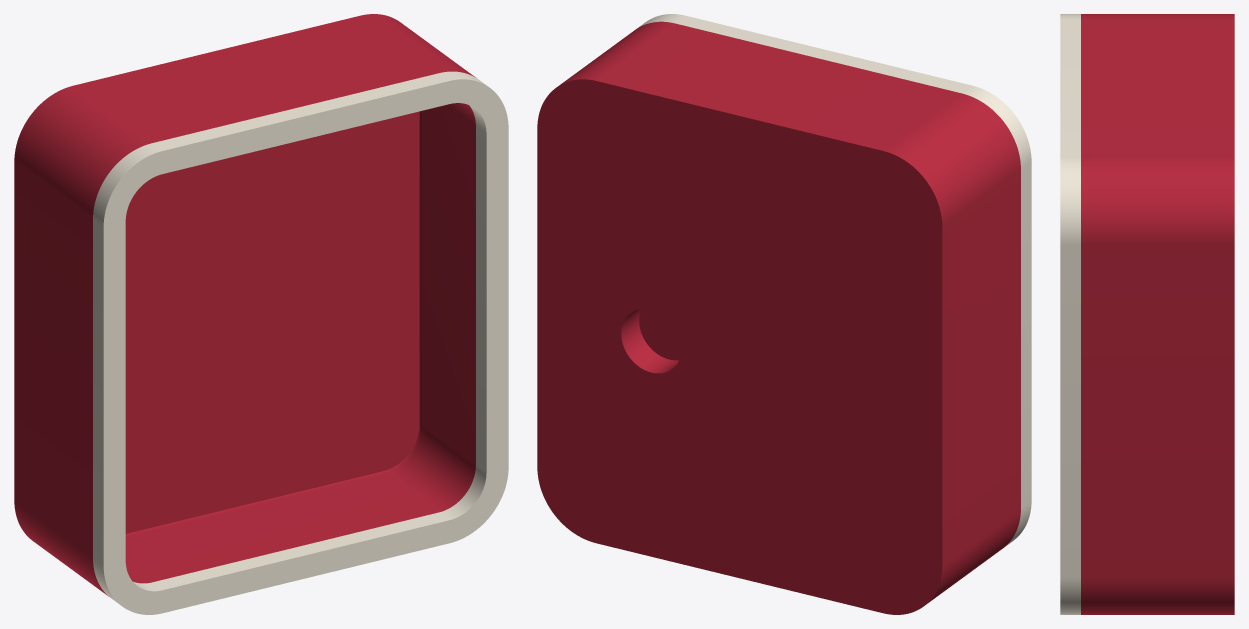
3 views of the same model, side by side, from view 1: azimuth 30°, elevation 25°; view 2: azimuth 150°, elevation 25°; view 3: azimuth 270°, elevation 25° (orthographic). The views are drawn at different scales.
Visible parts, largest first — view 1: O01_ChristmasRed, O01_Snow; view 2: O01_ChristmasRed, O01_Snow; view 3: O01_ChristmasRed, O01_Snow.
Part boxes in pixels (x1,y1,x2,y2): O01_ChristmasRed: (14,14,475,596); O01_Snow: (93,71,508,614); O01_ChristmasRed: (537,21,1020,614); O01_Snow: (638,14,1031,546); O01_ChristmasRed: (1081,14,1234,614); O01_Snow: (1060,14,1080,614).
Bounding box in the file's own units: 55 × 60 × 21.
